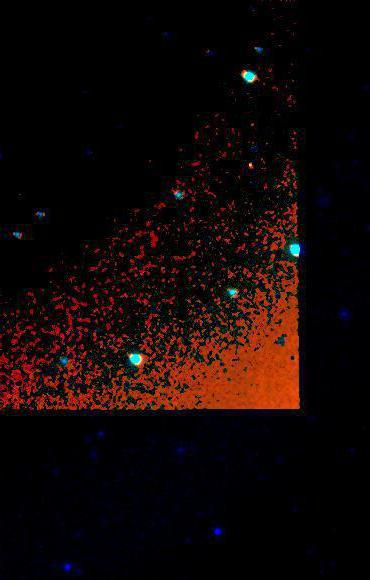star: (236, 153, 266, 183)
